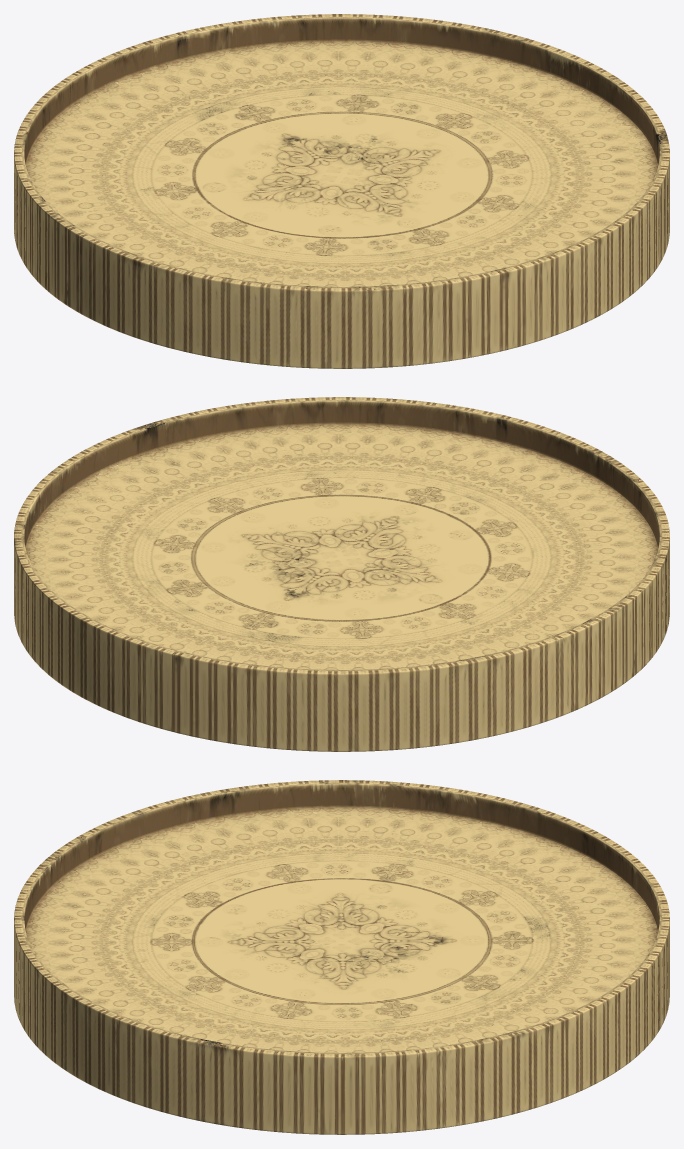
The model's file is Will_CostCoin.glb.
The picture shows the model from 3 angles, top to bottom: view 1: azimuth 30°, elevation 25°; view 2: azimuth 150°, elevation 25°; view 3: azimuth 270°, elevation 25°; orthographic projection.
Visible parts, largest first — view 1: Coin Gold Ornamental; view 2: Coin Gold Ornamental; view 3: Coin Gold Ornamental.
Boxes of the visible parts, x1=… form: Coin Gold Ornamental: x1=14, y1=14, x2=669, y2=368; Coin Gold Ornamental: x1=14, y1=397, x2=669, y2=751; Coin Gold Ornamental: x1=14, y1=780, x2=669, y2=1134.
Size of the model in its own units: 0.0344 by 0.00451 by 0.0344.
1 material, 1 textured.
